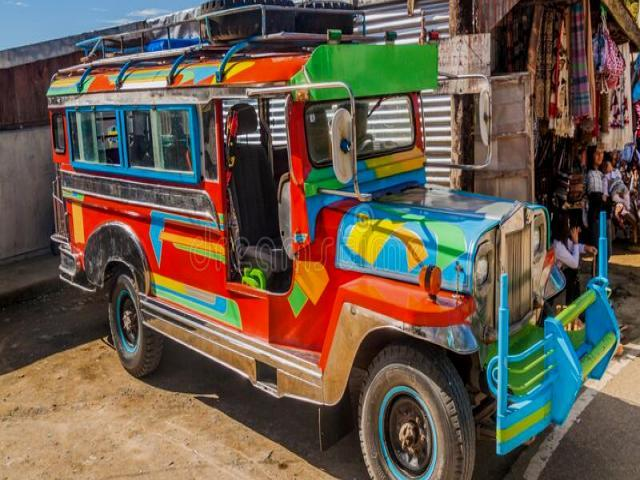jeepney: (36, 19, 627, 480)
